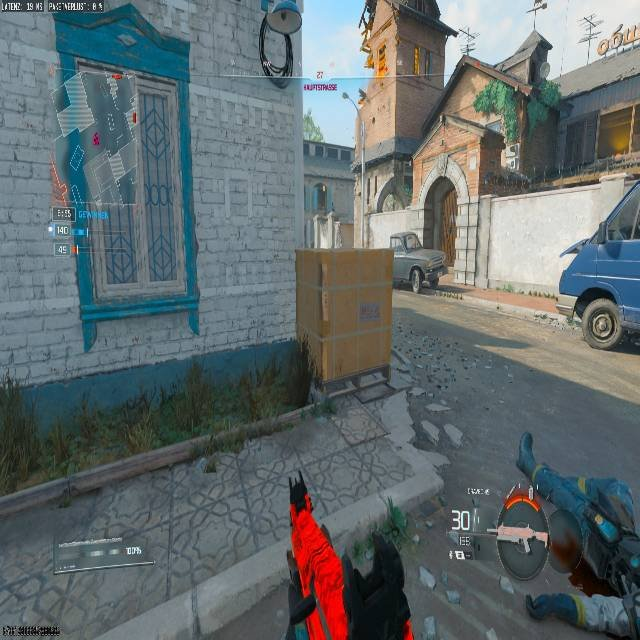head: (495, 495, 550, 580)
